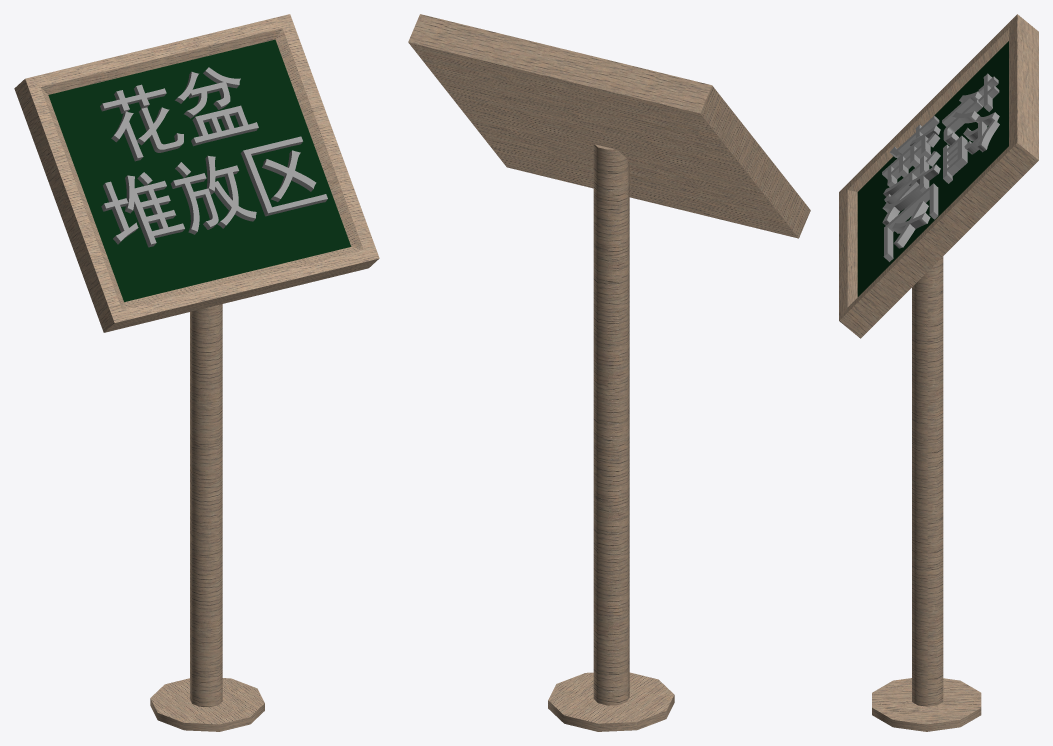
The picture shows the model from 3 angles, left to right: view 1: azimuth 30°, elevation 25°; view 2: azimuth 150°, elevation 25°; view 3: azimuth 270°, elevation 25°; orthographic projection. The views are drawn at different scales.
Parts seen in each view (by area): view 1: 024; view 2: 024; view 3: 024.
Boxes of the visible parts, x1,y1,x2,y2 form: 024: (14,14,379,731); 024: (408,14,810,731); 024: (839,14,1038,731).
Size of the model in its own units: 13.73 by 31.17 by 9.
3 materials, 1 textured.
